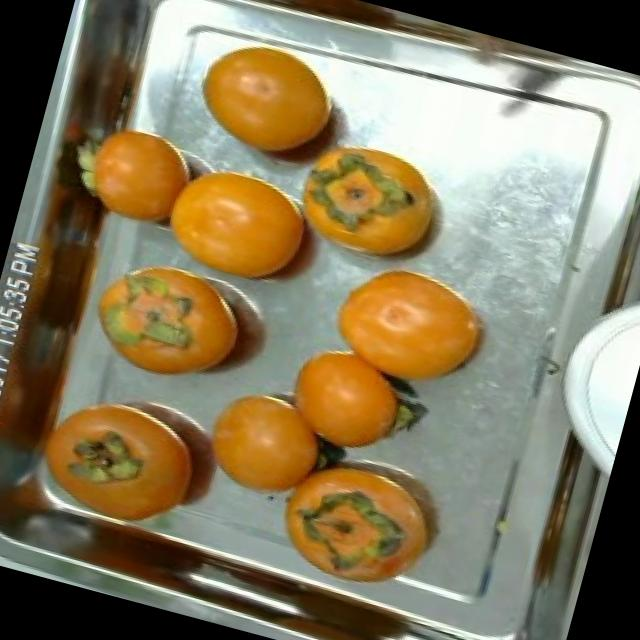Fruit: (16, 368, 238, 546), (306, 242, 514, 418), (75, 242, 272, 410), (170, 25, 364, 186), (278, 119, 472, 280), (142, 152, 338, 308), (262, 327, 439, 478), (56, 102, 227, 252), (184, 366, 347, 520)
